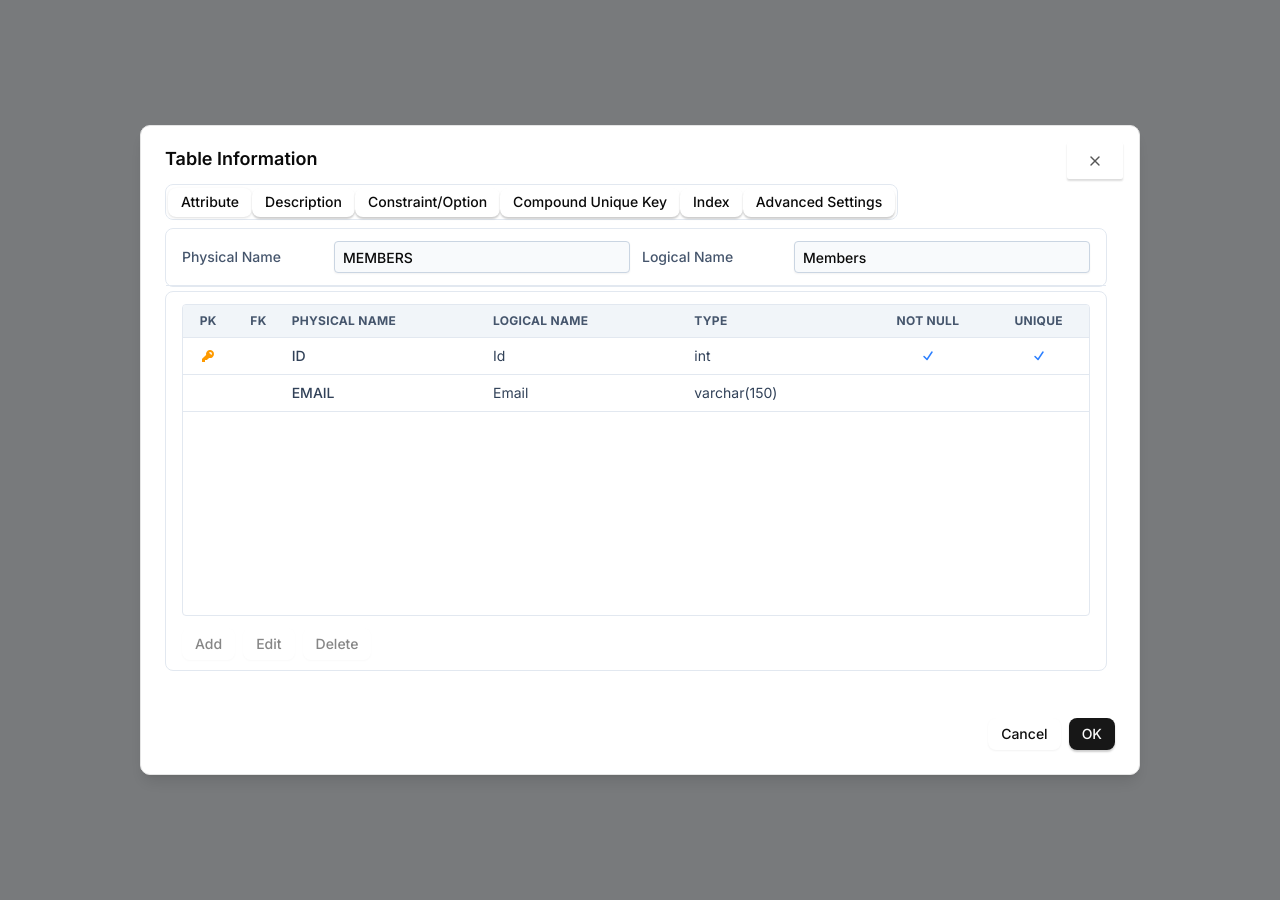
Test case: in read-only mode › keeps Add/Delete disabled while enabling Edit after selection
Click the row "EMAIL Email varchar(150)" at (313, 392), box [183,374,1089,412]
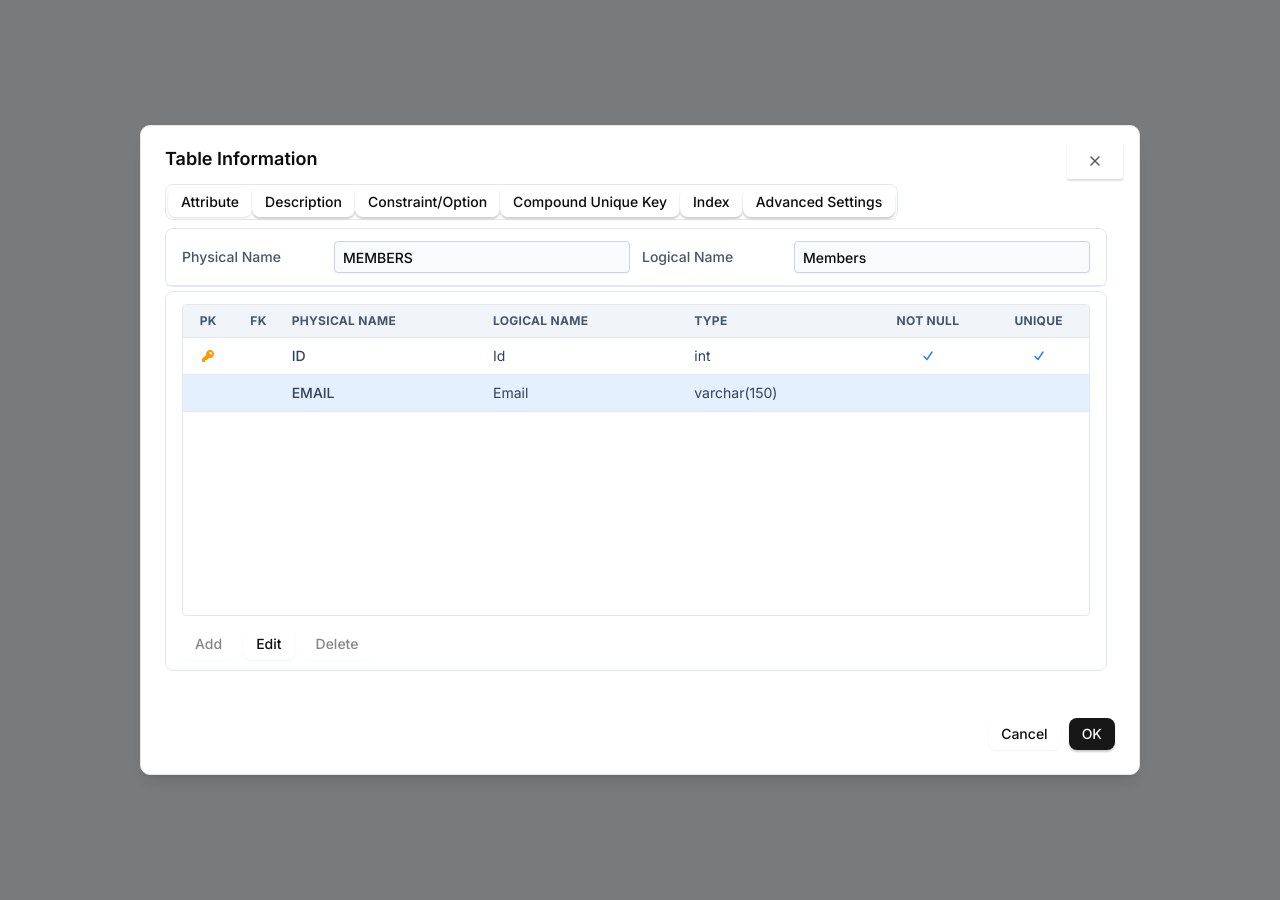
Expected: the button "Add" is disabled, [182,628,235,660]
Result: the button "Edit" is enabled at [243,628,294,660]
